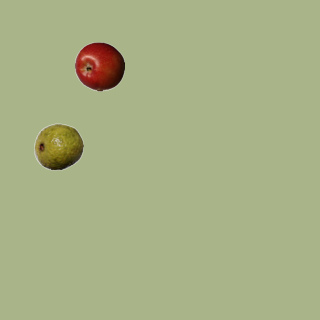Apple Braeburn: (74, 41, 124, 91)
Guava: (33, 121, 83, 171)
